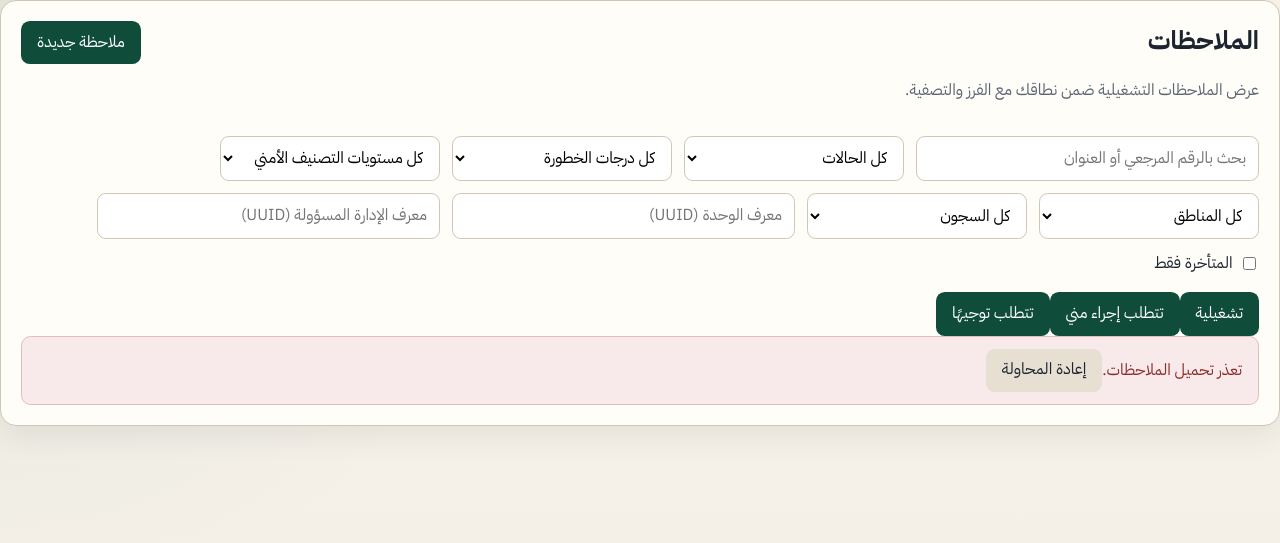
Test: NotesListPage › shows an error with a retry action on API failure, and retry re-fetches
Expected: the message shows "تعذر تحميل الملاحظات.", left=1102, top=357, right=1242, bottom=381
Click the button "إعادة المحاولة". click: (1044, 370)
box: left=986, top=348, right=1102, bottom=392
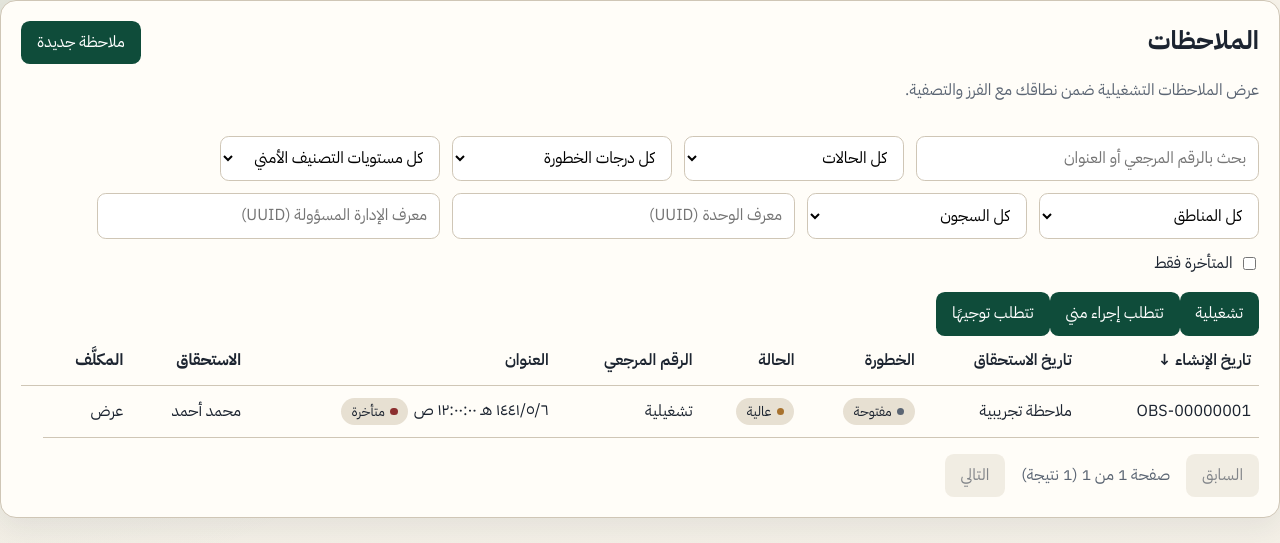
Expected: the text "ملاحظة تجريبية" is shown, left=923, top=386, right=1080, bottom=437
